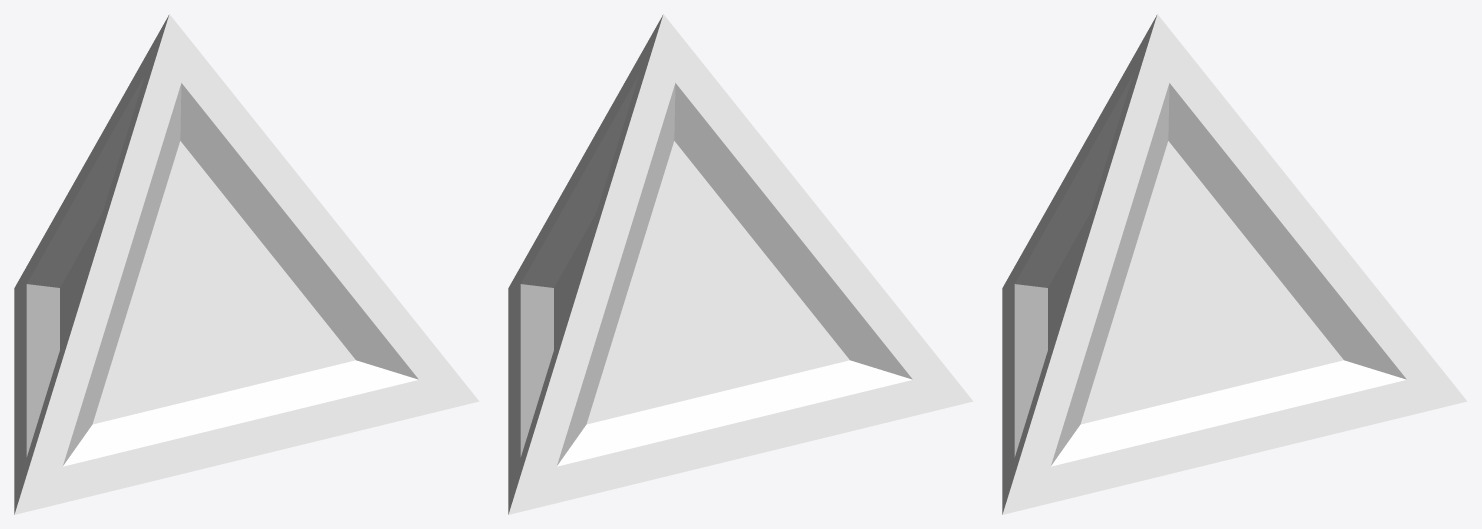
The model's file is Triangle.obj.
3 renders of one model, left to right at view 1: azimuth 30°, elevation 25°; view 2: azimuth 150°, elevation 25°; view 3: azimuth 270°, elevation 25°, orthographic.
Visible parts, largest first — view 1: 円錐; view 2: 円錐; view 3: 円錐.
Part boxes in pixels (bbox=[...]): 円錐: bbox=[14, 14, 479, 514]; 円錐: bbox=[508, 14, 973, 514]; 円錐: bbox=[1002, 14, 1467, 514].
Size of the model in its own units: 0.3467 by 0.276 by 0.3003.
